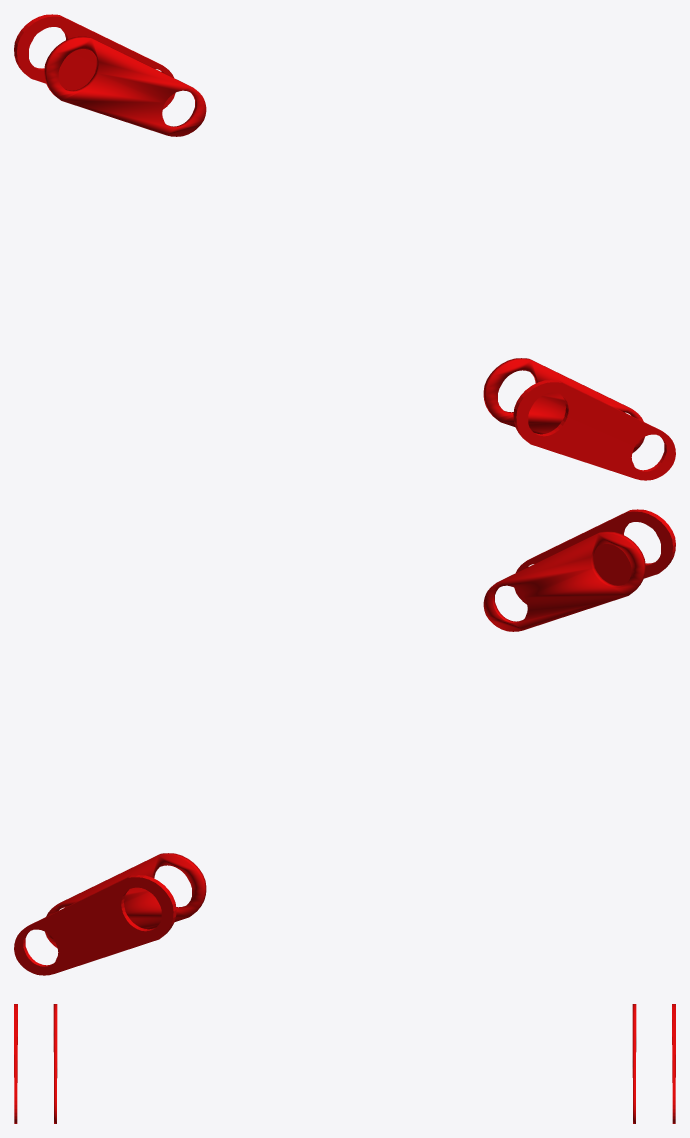
Rendered from millMovementIronSheets.glb.
3 views of the same model, one above another, from view 1: azimuth 30°, elevation 25°; view 2: azimuth 150°, elevation 25°; view 3: azimuth 270°, elevation 25° (orthographic). The views are drawn at different scales.
Visible parts, largest first — view 1: movementIronSheets; view 2: movementIronSheets; view 3: movementIronSheets.
Boxes of the visible parts, x1,y1,x2,y2 form: movementIronSheets: [14, 14, 675, 480]; movementIronSheets: [14, 509, 675, 975]; movementIronSheets: [14, 1004, 675, 1123].
Bounding box in the file's own units: 0.2385 × 0.1757 × 1.3.
